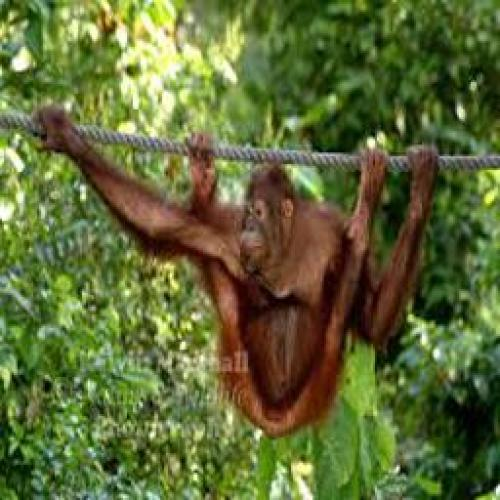orangutan-endangered: (30, 103, 440, 436)
